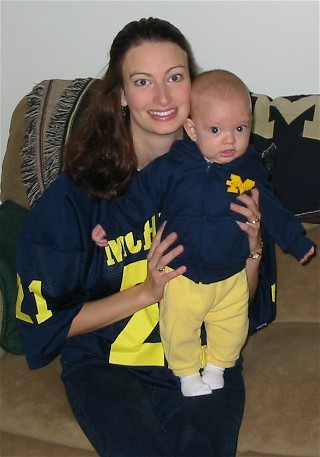without_mask: (101, 23, 201, 140), (187, 81, 270, 179)
